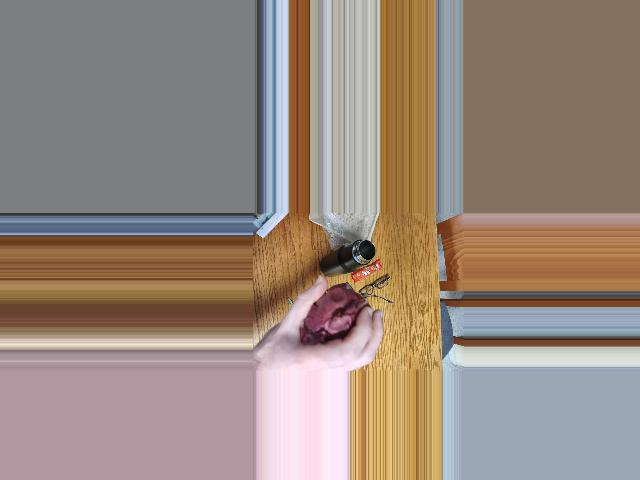onion: (301, 291, 369, 344)
